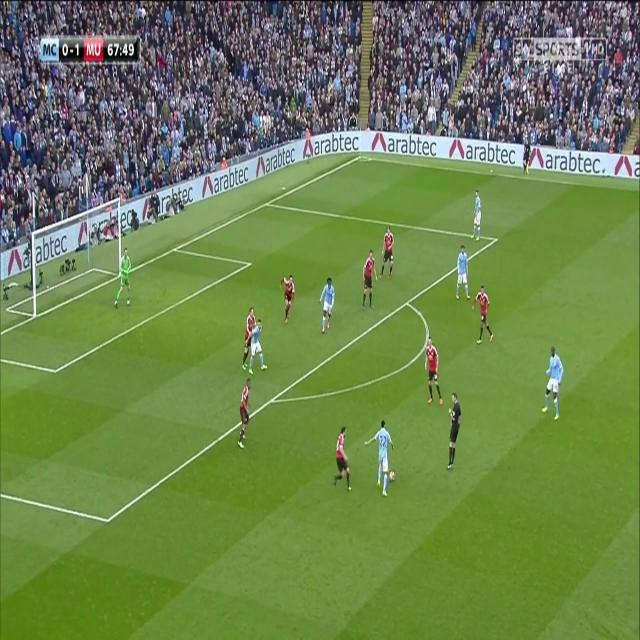Ball: (388, 468, 396, 485)
Goalkeeper: (112, 244, 134, 312)
Player: (363, 418, 396, 498), (540, 344, 566, 423), (423, 334, 443, 411), (331, 425, 353, 494), (472, 284, 495, 348), (236, 376, 254, 450), (359, 250, 379, 312), (248, 318, 268, 378), (317, 274, 336, 336), (455, 243, 472, 302), (277, 272, 295, 326), (380, 224, 395, 284), (240, 309, 254, 371), (469, 188, 483, 244)
Referee: (444, 392, 462, 473), (520, 135, 532, 177)
